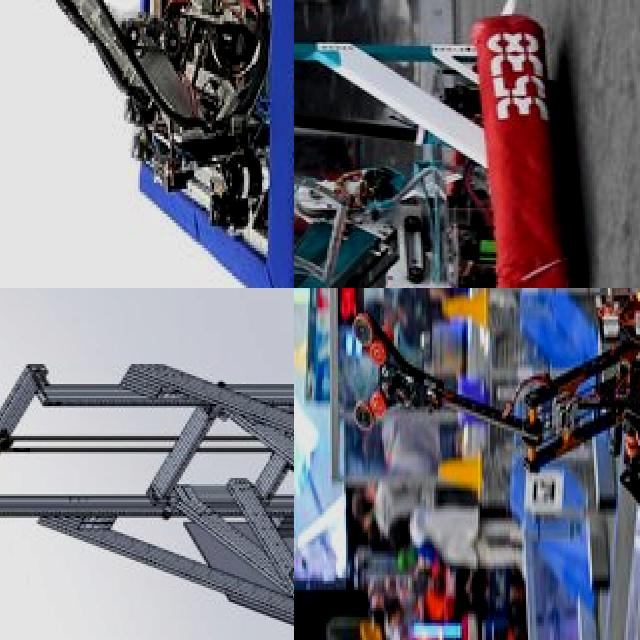FRC-Robots: (314, 288, 640, 612), (0, 288, 294, 640), (294, 0, 591, 288), (0, 0, 294, 288)
